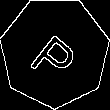P_NE: (26, 21, 84, 83)
